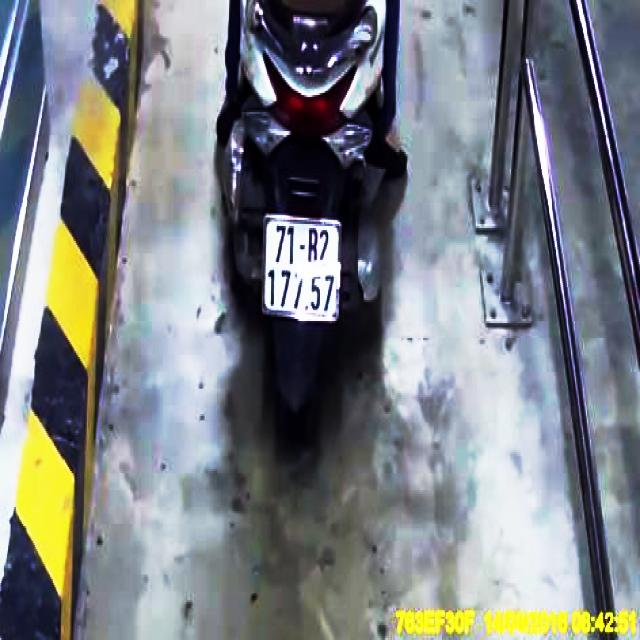license_plate: (264, 220, 342, 325)
